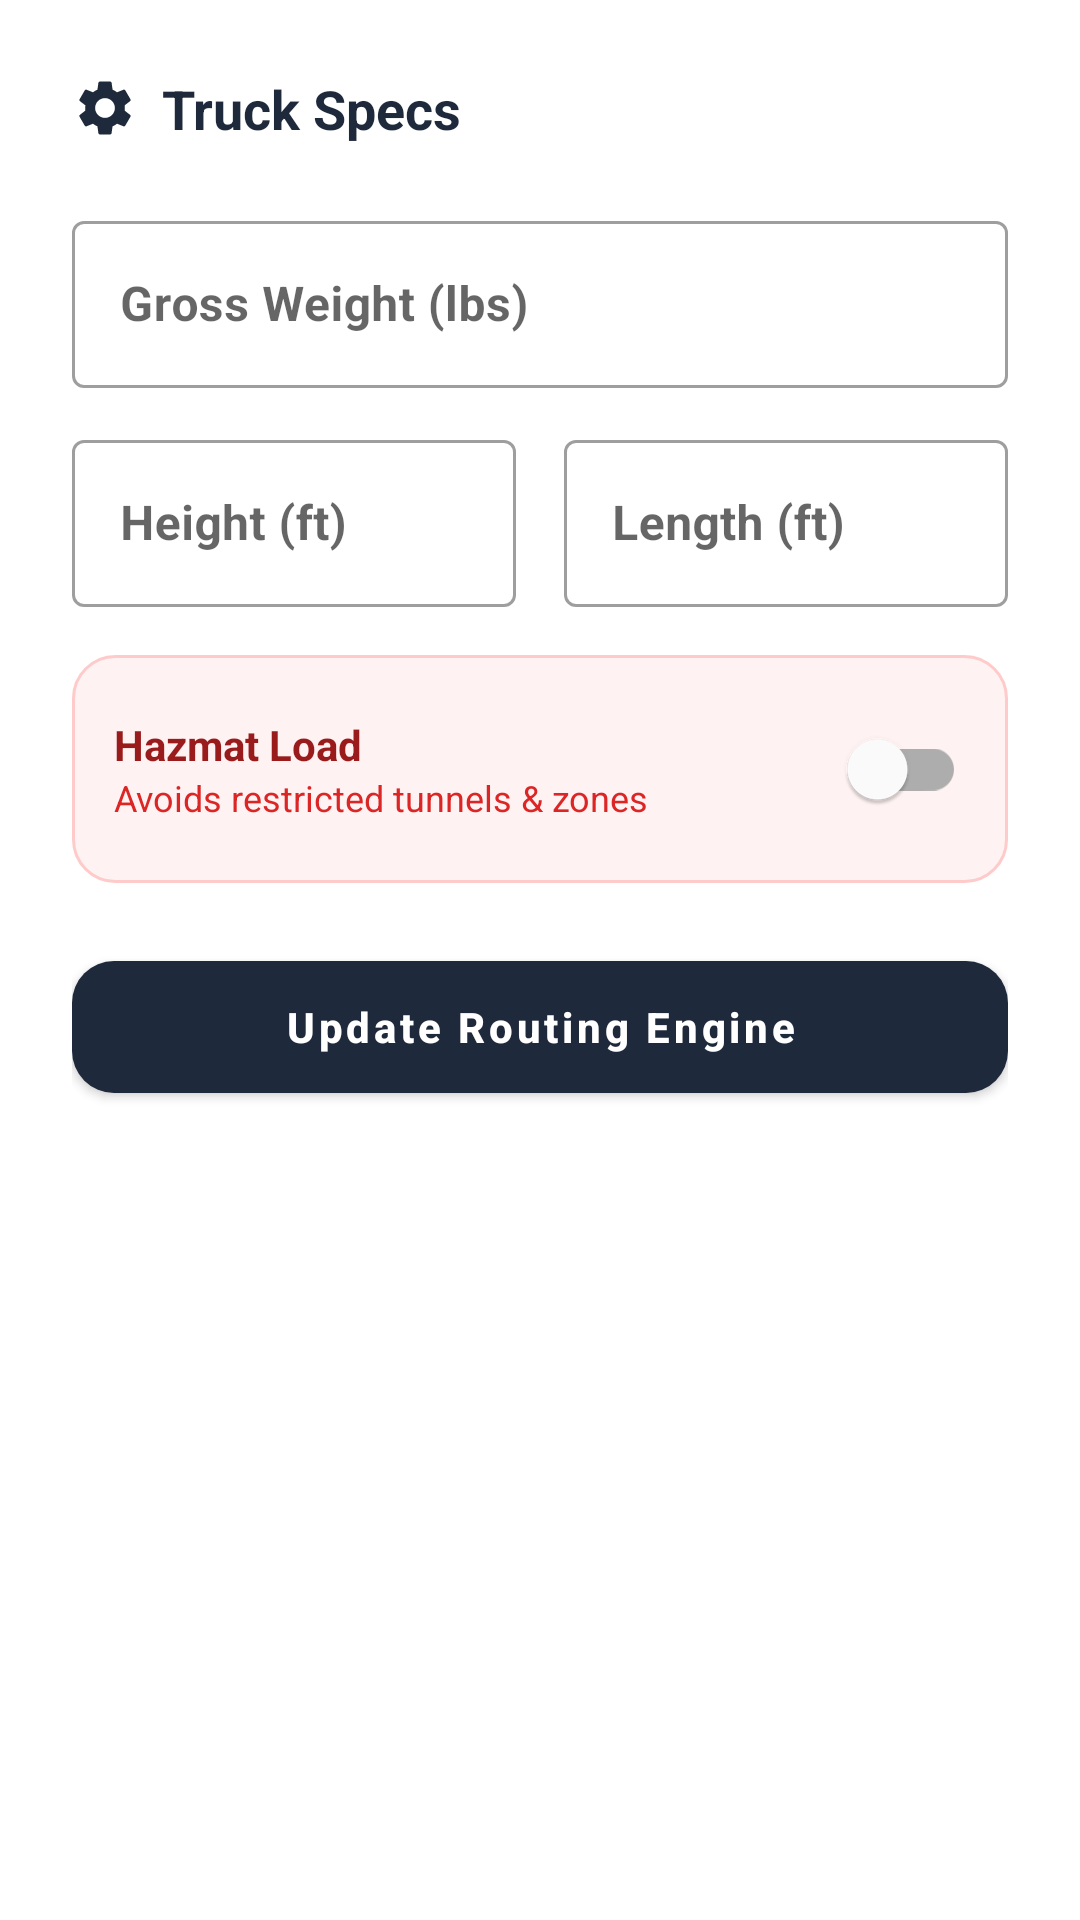

Screen size 1080×1920. Icon name, then its box in pixels as box(x1, y1, x2, y2):
settings: box(79, 81, 131, 135)
